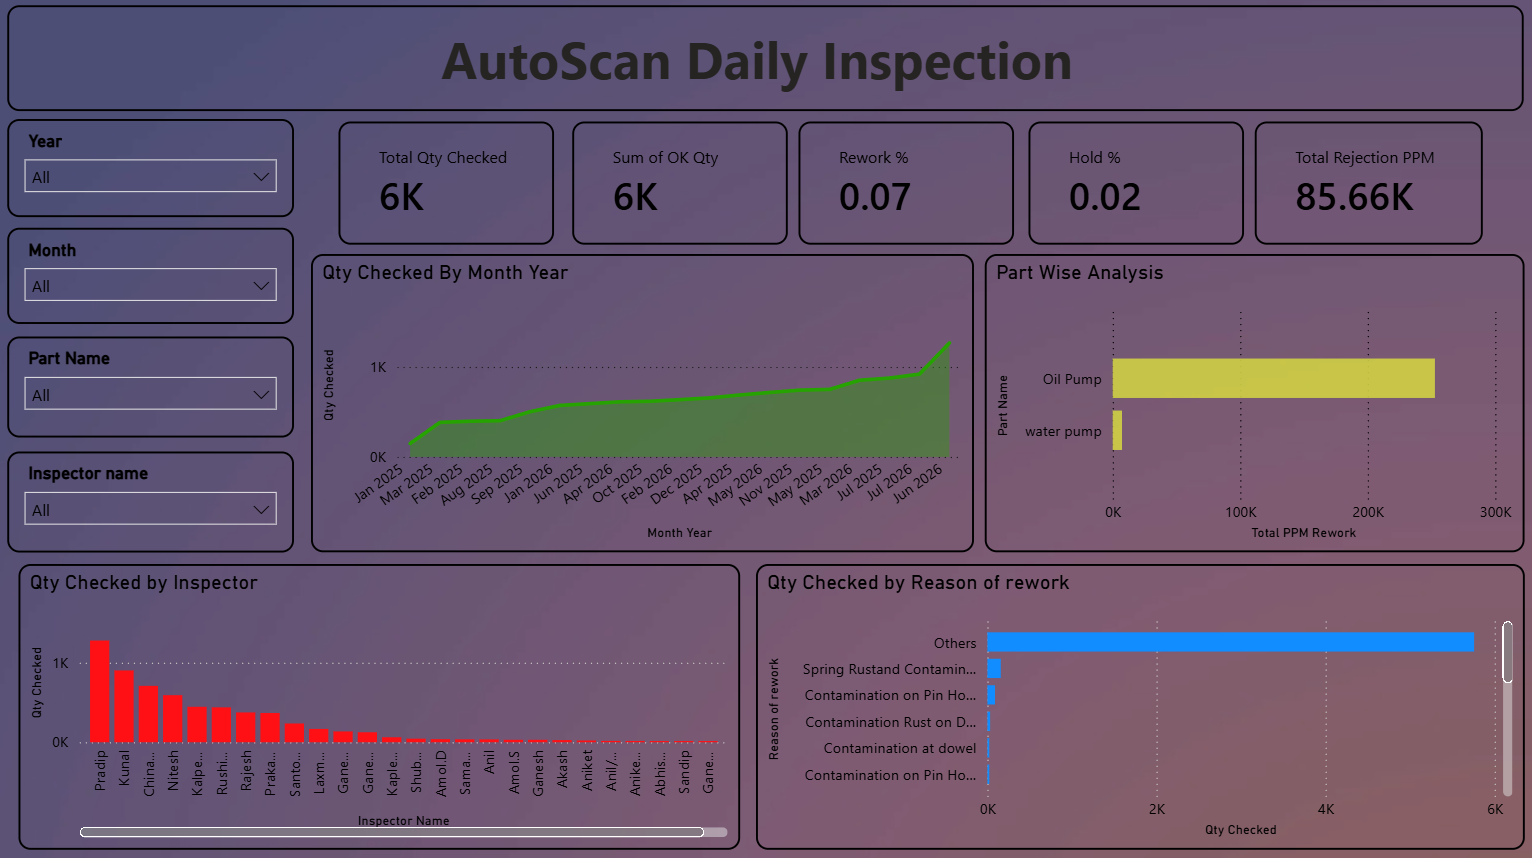

The page's visual inventory and layout, read from the dashboard file:
{"tool":"powerbi","page":{"name":"Page 1","canvas":[1280,720],"ordinal":0},"visuals":[{"type":"textbox","box":[9.6,9.6,1261.1,87.8],"z":0},{"type":"slicer","fields":{"Values":["Date Table.Date.Variation.Date Hierarchy.Year"]},"box":[9.3,103.5,238.4,81.4],"z":1},{"type":"slicer","fields":{"Values":["Date Table.Date.Variation.Date Hierarchy.Month"]},"box":[9.3,194.2,238.4,80.2],"z":2},{"type":"cardVisual","fields":{"Data":["Main Sheet.Total Qty Checked"]},"box":[284.9,106.3,179.1,102.3],"z":3},{"type":"cardVisual","fields":{"Data":["Sum(Main Sheet.OK Qty )"]},"box":[479.1,106.3,179.1,102.3],"z":4},{"type":"cardVisual","fields":{"Data":["Main Sheet.Rework %"]},"box":[667.4,106.3,179.1,102.3],"z":5},{"type":"cardVisual","fields":{"Data":["Main Sheet.Hold %"]},"box":[858.1,106.3,179.1,102.3],"z":6},{"type":"cardVisual","fields":{"Data":["Main Sheet.Total Rejection PPM"]},"box":[1046.5,106.3,189.5,102.3],"z":7},{"type":"slicer","fields":{"Values":["Main Sheet.Inspector name"]},"box":[9.3,380.2,238.4,83.7],"z":8},{"type":"slicer","fields":{"Values":["Main Sheet.Part Name"]},"box":[9.3,284.9,238.4,83.7],"z":9},{"type":"areaChart","title":"Qty Checked By Month Year","fields":{"Category":["Date Table.Month Year"],"Y":["Sum(Main Sheet.Qty Checked)"]},"box":[261.6,216.3,551.2,247.7],"z":10},{"type":"barChart","title":"Part Wise Analysis","fields":{"Category":["Main Sheet.Part Name"],"Y":["Main Sheet.PPM Rework new"]},"box":[822.1,216.3,448.8,247.7],"z":11},{"type":"barChart","title":"Qty Checked by Reason of rework","fields":{"Category":["Main Sheet.Reason of rework"],"Y":["Sum(Main Sheet.Qty Checked)"]},"box":[631.4,474.4,639.5,237.2],"z":12},{"type":"lineStackedColumnComboChart","title":"Qty Checked by Inspector","fields":{"Category":["Main Sheet.Inspector name"],"Y":["Sum(Main Sheet.Qty Checked)"]},"box":[18.6,474.4,600,237.2],"z":13}]}

Visuals, with their boxes in screenshot pixels (x1, y1, x2, y2), scaled from the page's 1280x720 canvas onto the 1532x858 screenshot:
textbox: box=[11, 11, 1521, 116]
slicer - Date Table.Date.Variation.Date Hierarchy.Year: box=[11, 123, 296, 220]
slicer - Date Table.Date.Variation.Date Hierarchy.Month: box=[11, 231, 296, 327]
cardVisual - Main Sheet.Total Qty Checked: box=[341, 127, 555, 249]
cardVisual - Sum(Main Sheet.OK Qty ): box=[573, 127, 788, 249]
cardVisual - Main Sheet.Rework %: box=[799, 127, 1013, 249]
cardVisual - Main Sheet.Hold %: box=[1027, 127, 1241, 249]
cardVisual - Main Sheet.Total Rejection PPM: box=[1253, 127, 1479, 249]
slicer - Main Sheet.Inspector name: box=[11, 453, 296, 553]
slicer - Main Sheet.Part Name: box=[11, 340, 296, 439]
"Qty Checked By Month Year" areaChart: box=[313, 258, 973, 553]
"Part Wise Analysis" barChart: box=[984, 258, 1521, 553]
"Qty Checked by Reason of rework" barChart: box=[756, 565, 1521, 848]
"Qty Checked by Inspector" lineStackedColumnComboChart: box=[22, 565, 740, 848]
